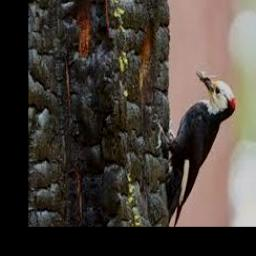Woodpecker: (153, 68, 234, 227)
